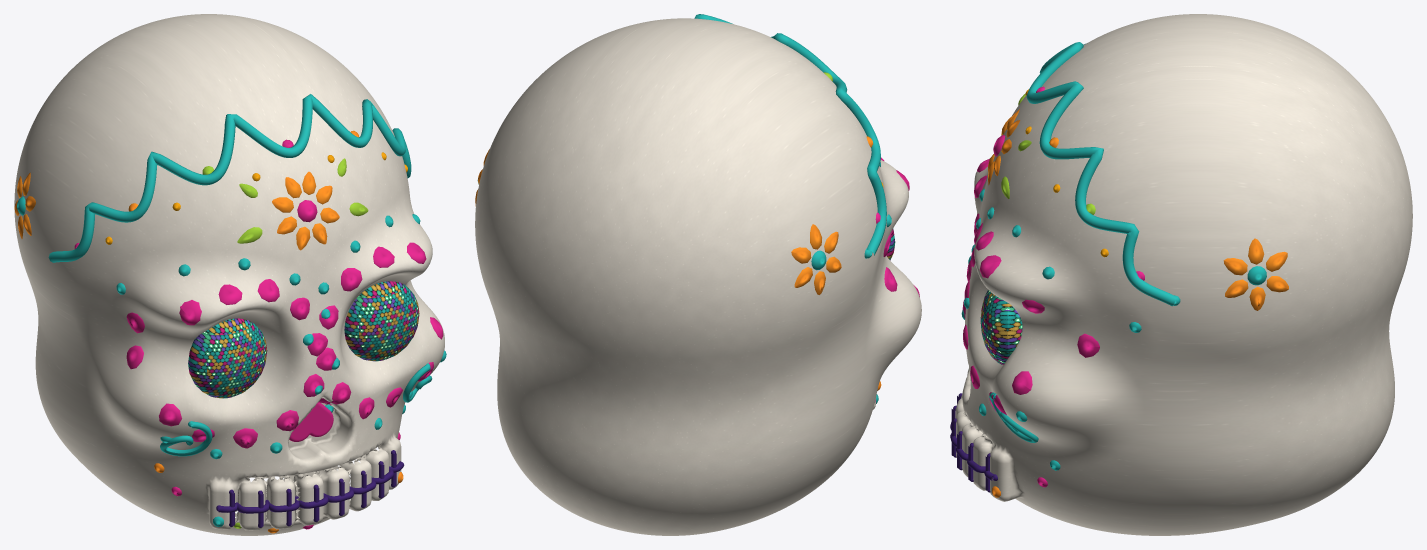
The model's file is sugar_skull_mini.glb.
3 views of the same model, side by side, from view 1: azimuth 30°, elevation 25°; view 2: azimuth 150°, elevation 25°; view 3: azimuth 270°, elevation 25° (orthographic). The views are drawn at different scales.
Parts seen in each view (by area): view 1: sugar_skull_mini; view 2: sugar_skull_mini; view 3: sugar_skull_mini.
Boxes of the visible parts, bbox=[...] form: sugar_skull_mini: bbox=[14, 14, 446, 535]; sugar_skull_mini: bbox=[475, 14, 921, 535]; sugar_skull_mini: bbox=[950, 14, 1412, 535].
Bounding box in the file's own units: 0.0572 × 0.07 × 0.0626.
Materials: 3 (2 with a texture image).
